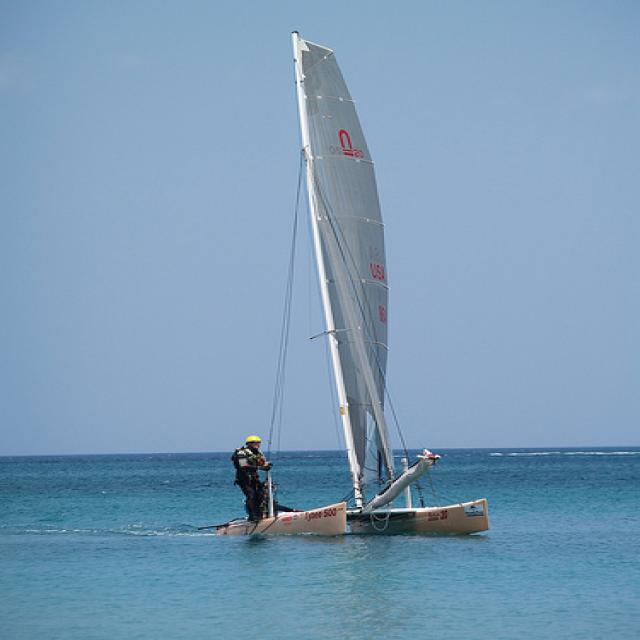Ship: (199, 29, 502, 545)
